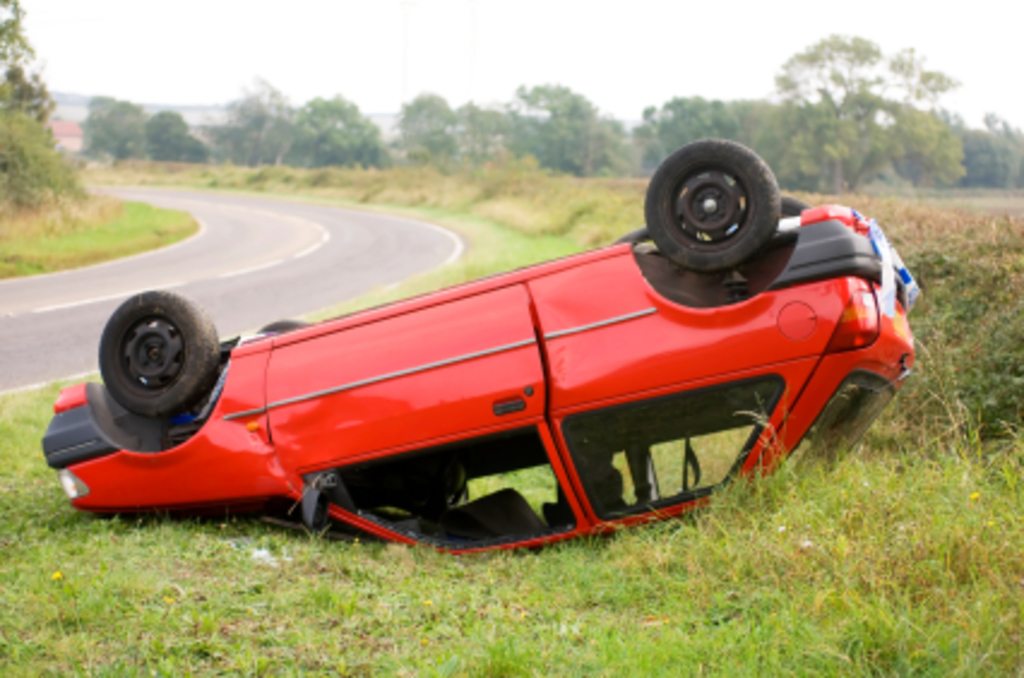Tree: (76, 82, 1024, 176), (778, 30, 967, 190)
